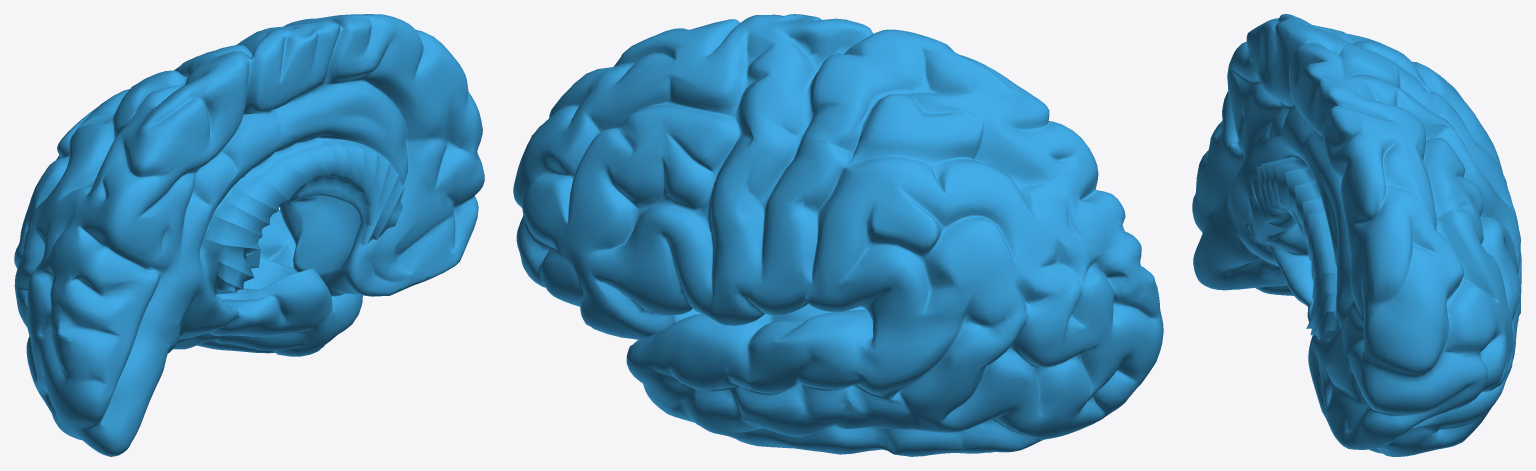
File: left_cerebral_hemisphere.glb
3 renders of one model, left to right at view 1: azimuth 30°, elevation 25°; view 2: azimuth 150°, elevation 25°; view 3: azimuth 270°, elevation 25°, orthographic. The views are drawn at different scales.
Visible parts, largest first — view 1: Brain_Part_04; view 2: Brain_Part_04; view 3: Brain_Part_04.
Boxes of the visible parts, x1,y1,x2,y2 form: Brain_Part_04: (14,14,484,456); Brain_Part_04: (513,14,1163,456); Brain_Part_04: (1192,14,1521,456).
Bounding box in the file's own units: 4.52 × 3.05 × 2.44.
